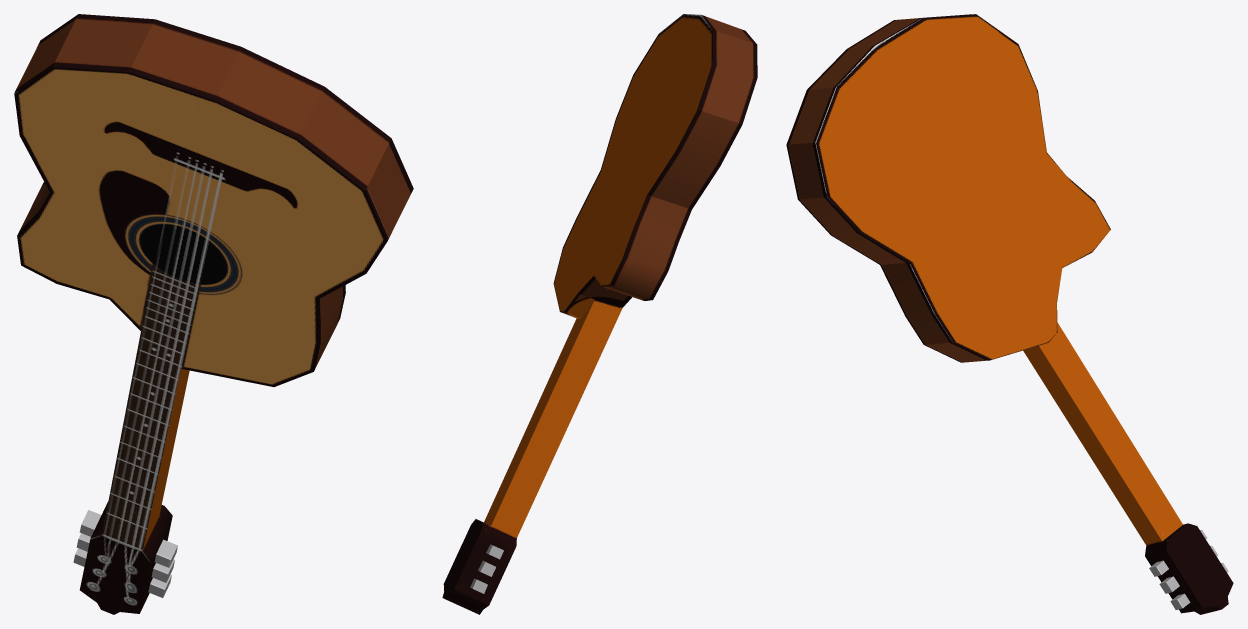
The model's file is Guitarra3_000024.obj.
3 views of the same model, side by side, from view 1: azimuth 30°, elevation 25°; view 2: azimuth 150°, elevation 25°; view 3: azimuth 270°, elevation 25° (orthographic). The views are drawn at different scales.
Visible parts, largest first — view 1: Guitarra_2:pPlane4; view 2: Guitarra_2:pPlane4; view 3: Guitarra_2:pPlane4.
Boxes of the visible parts, x1,y1,x2,y2 form: Guitarra_2:pPlane4: (14,14,413,614); Guitarra_2:pPlane4: (442,14,757,614); Guitarra_2:pPlane4: (786,14,1233,614).
Size of the model in its own units: 4.47 by 11.08 by 8.27.
